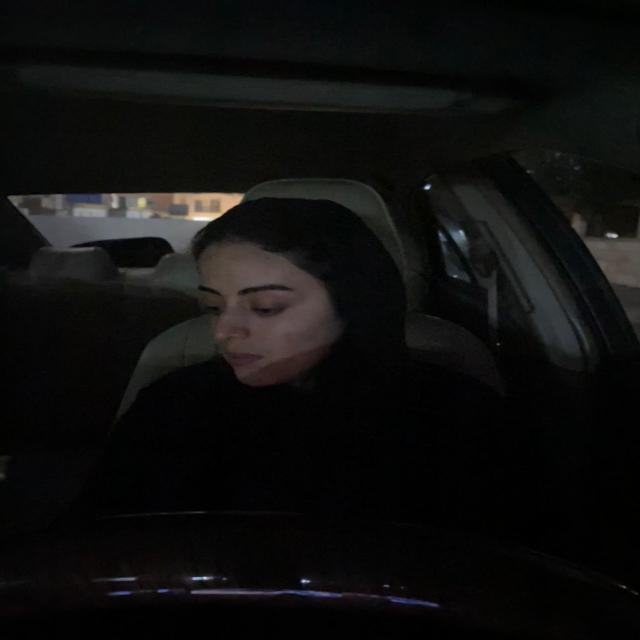person: (190, 194, 394, 388)
